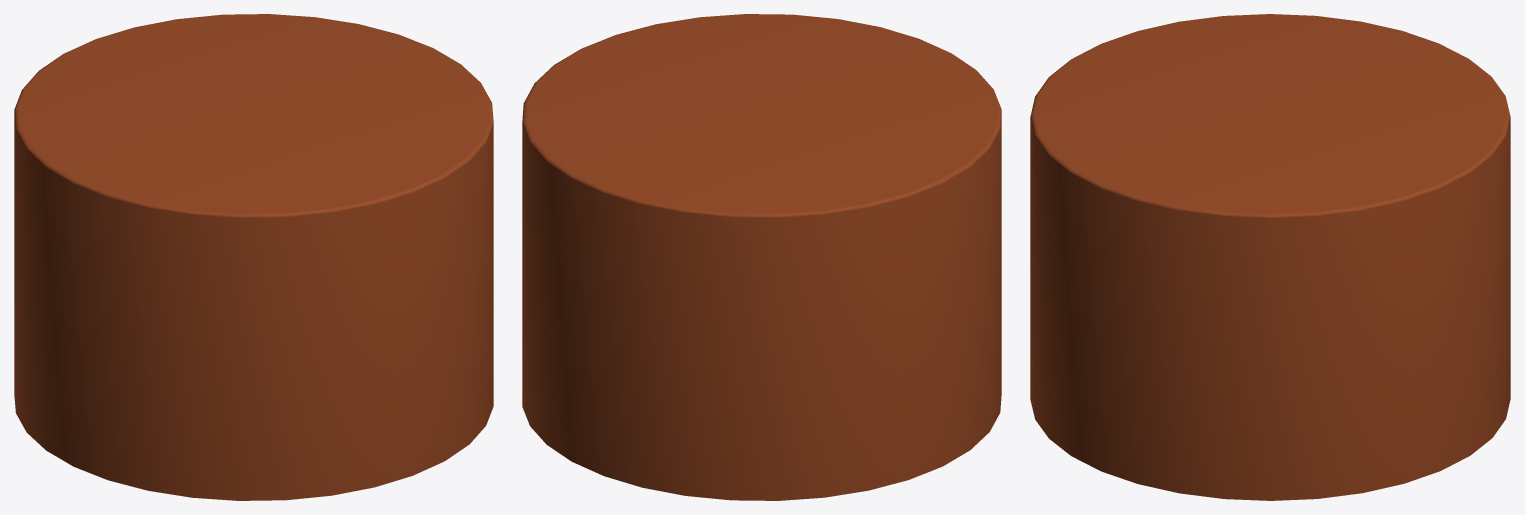
Rendered from duiktank.glb.
The picture shows the model from 3 angles, left to right: view 1: azimuth 30°, elevation 25°; view 2: azimuth 150°, elevation 25°; view 3: azimuth 270°, elevation 25°; orthographic projection.
Parts seen in each view (by area): view 1: duiktank; view 2: duiktank; view 3: duiktank.
Boxes of the visible parts, x1,y1,x2,y2 form: duiktank: [14, 14, 493, 500]; duiktank: [522, 14, 1001, 500]; duiktank: [1030, 14, 1510, 500].
Size of the model in its own units: 1.07 by 0.7008 by 1.07.
